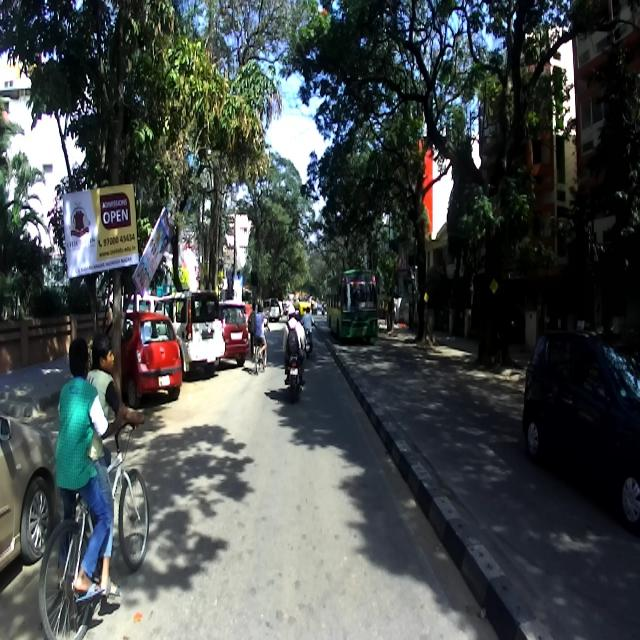Car_Hyundai: (100, 309, 182, 407)
Car_Mahindra: (153, 289, 226, 378)
Car_Maruti-Suzuki: (521, 326, 639, 524)
Car_Toyota: (0, 408, 56, 571)
bus: (326, 267, 379, 342)
motorcycle: (282, 323, 308, 402)
